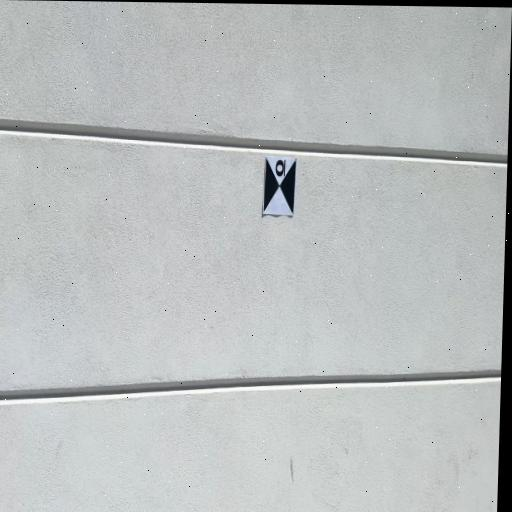target0: (263, 156, 296, 215)
